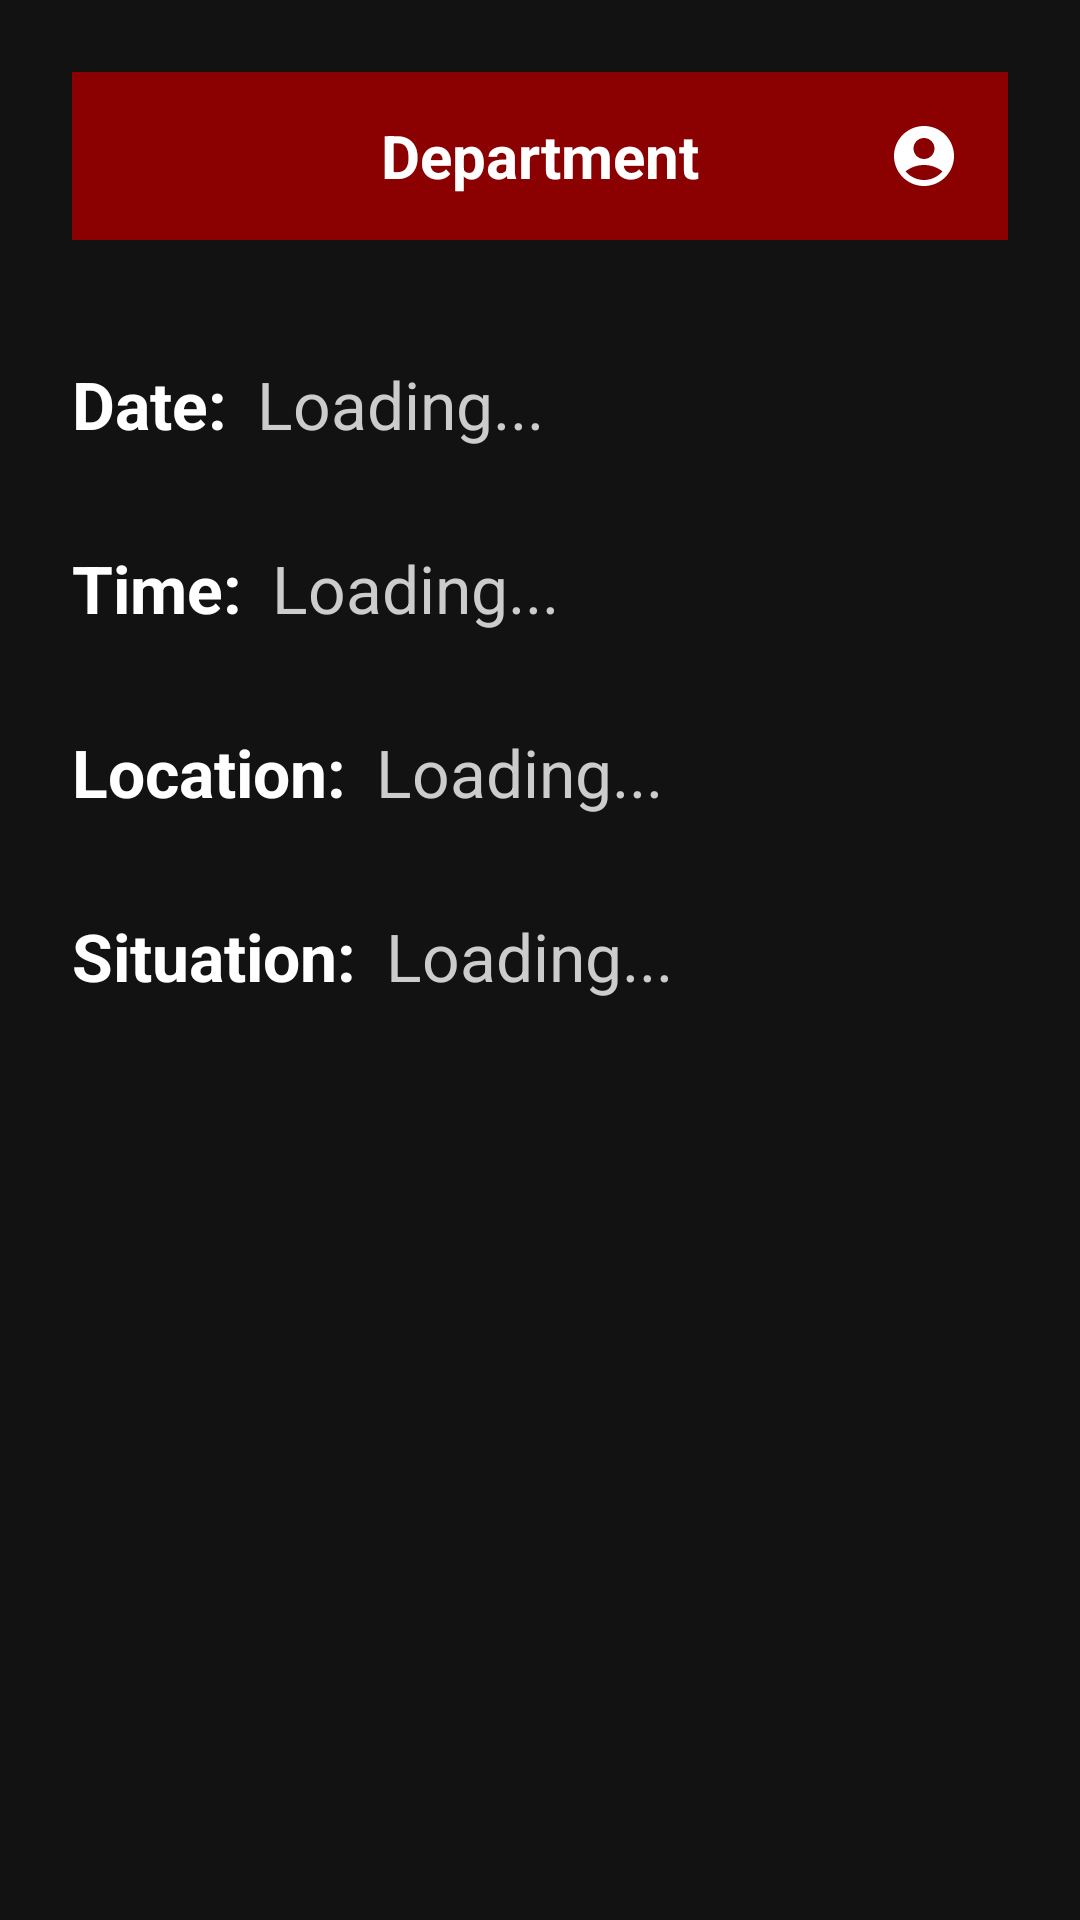

Named icons in this screenshot (1080x1920) and their centers, (x,y):
account circle: (924,156)
